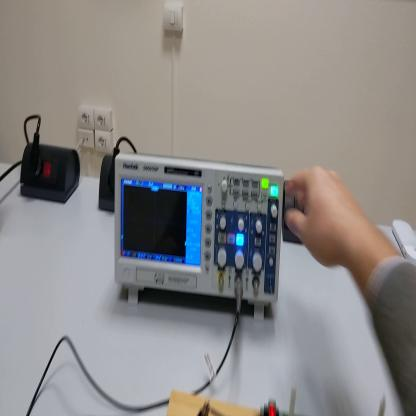hand: (283, 165, 361, 271)
low voltage board: (258, 383, 388, 415)
oscilloscope: (113, 156, 283, 327)
socket: (19, 142, 81, 207), (97, 154, 115, 210)
working area: (167, 391, 258, 415)
